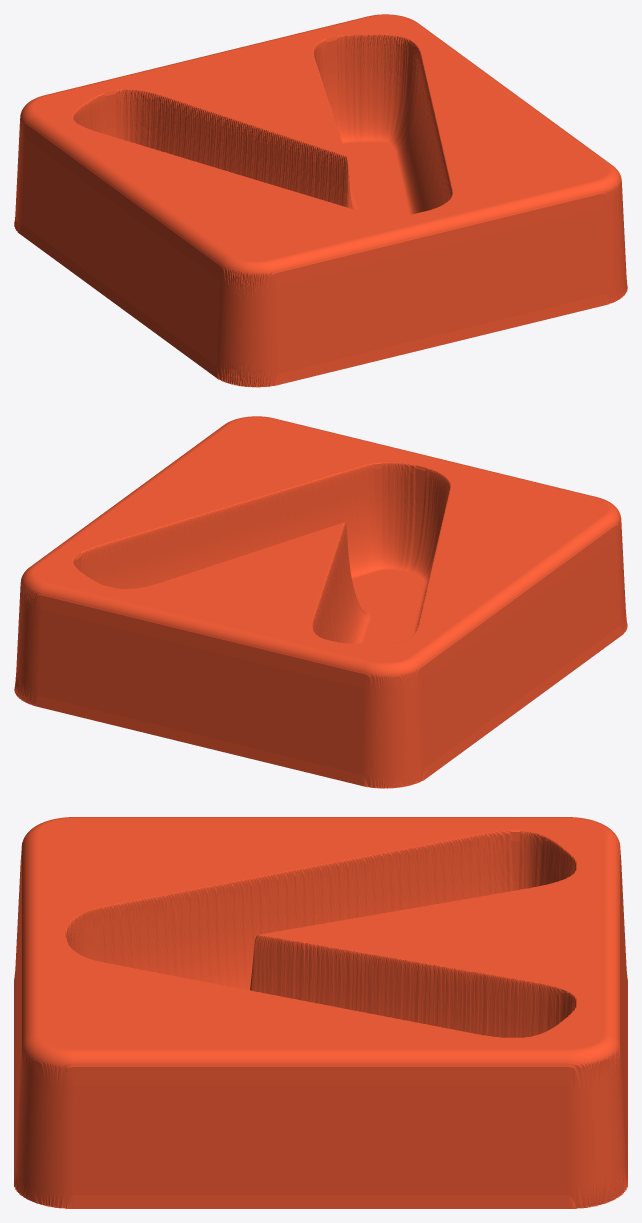
Rendered from mold.glb.
3 views of the same model, one above another, from view 1: azimuth 30°, elevation 25°; view 2: azimuth 150°, elevation 25°; view 3: azimuth 270°, elevation 25° (orthographic). The views are drawn at different scales.
Visible parts, largest first — view 1: geometry_0; view 2: geometry_0; view 3: geometry_0.
Boxes of the visible parts, box(x1,y1,x2,y2) form: geometry_0: box(14, 14, 627, 387); geometry_0: box(14, 416, 627, 788); geometry_0: box(14, 817, 627, 1208).
Size of the model in its own units: 0.0894 by 0.0248 by 0.0924.
